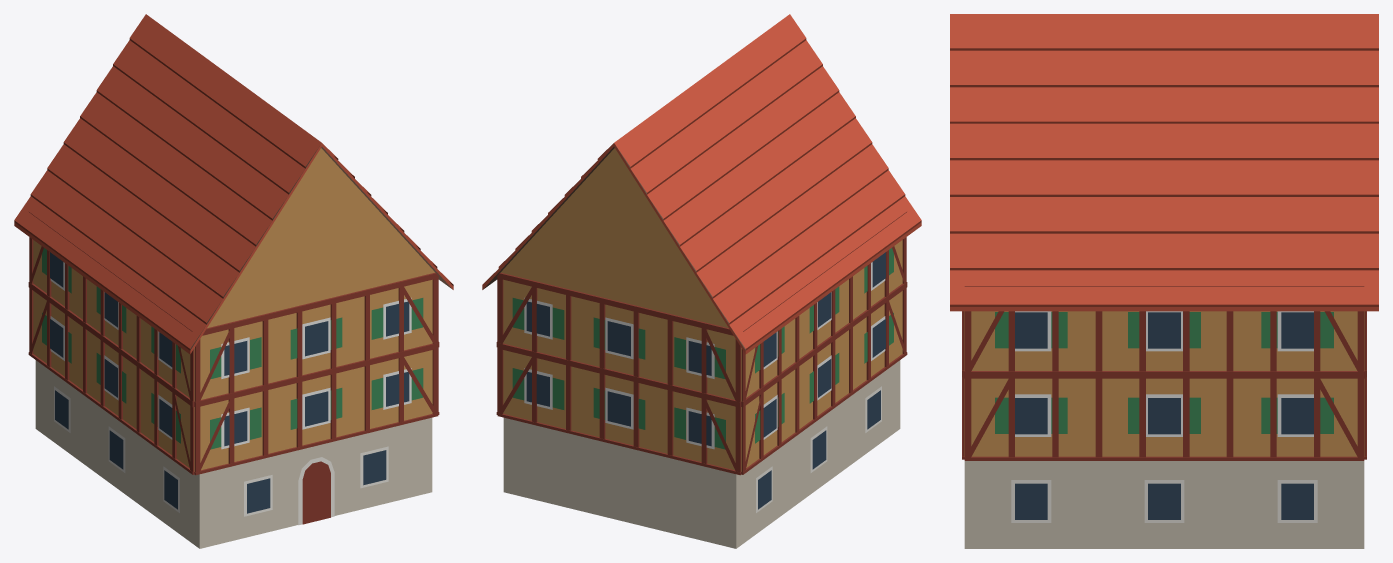
Rendered from maison_alsacienne.glb.
3 views of the same model, side by side, from view 1: azimuth 30°, elevation 25°; view 2: azimuth 150°, elevation 25°; view 3: azimuth 270°, elevation 25° (orthographic). The views are drawn at different scales.
Visible parts, largest first — view 1: maison_alsacienne; view 2: maison_alsacienne; view 3: maison_alsacienne.
Boxes of the visible parts, x1=… form: maison_alsacienne: x1=14, y1=14, x2=453, y2=548; maison_alsacienne: x1=482, y1=14, x2=921, y2=548; maison_alsacienne: x1=950, y1=14, x2=1378, y2=548.
Size of the model in its own units: 10.2 by 14.14 by 11.8.
Materials: 1 (1 with a texture image).
